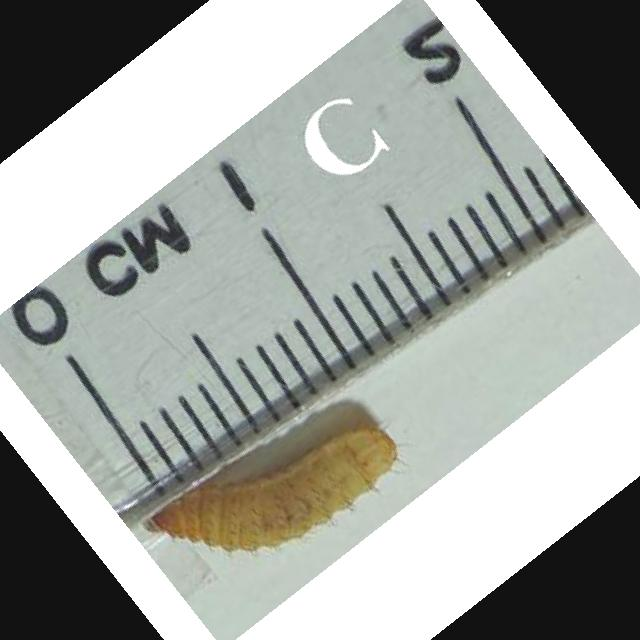Maggot: (137, 425, 401, 552)
